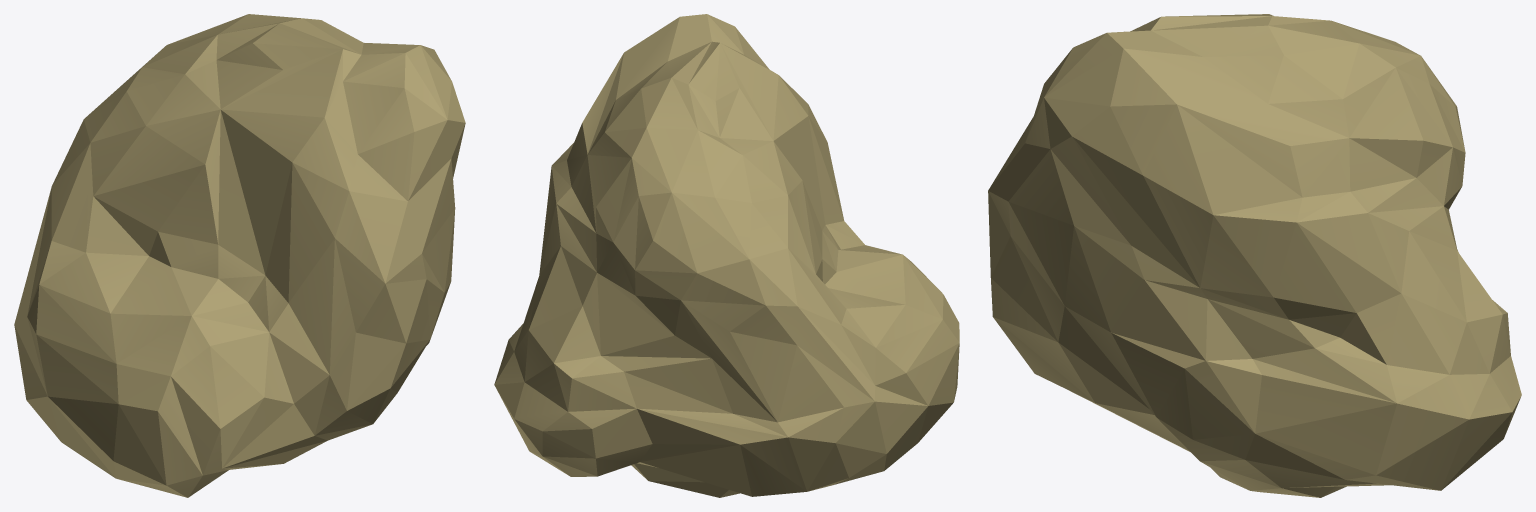
File: SM_rock_93.fbx
The picture shows the model from 3 angles, left to right: view 1: azimuth 30°, elevation 25°; view 2: azimuth 150°, elevation 25°; view 3: azimuth 270°, elevation 25°; orthographic projection. The views are drawn at different scales.
Parts seen in each view (by area): view 1: rock_93; view 2: rock_93; view 3: rock_93.
Part boxes in pixels (left/top/right/bottom): rock_93: left=14, top=14, right=465, bottom=497; rock_93: left=494, top=14, right=959, bottom=497; rock_93: left=988, top=14, right=1521, bottom=497.
Size of the model in its own units: 175 by 187 by 184.
